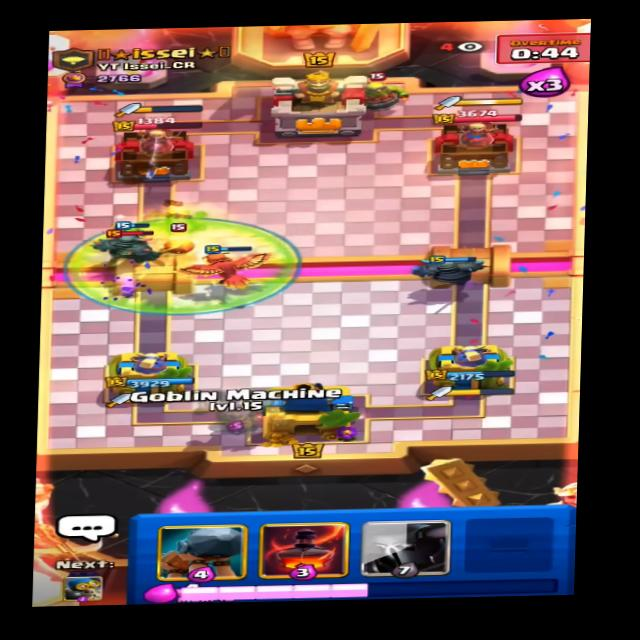Goblindemolisher: (361, 69, 412, 110)
Pekka: (97, 220, 183, 262)
Pheonixegg: (158, 222, 200, 255)
